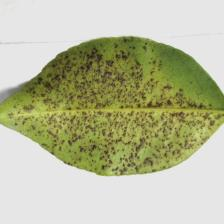canker: (44, 62, 176, 166)
